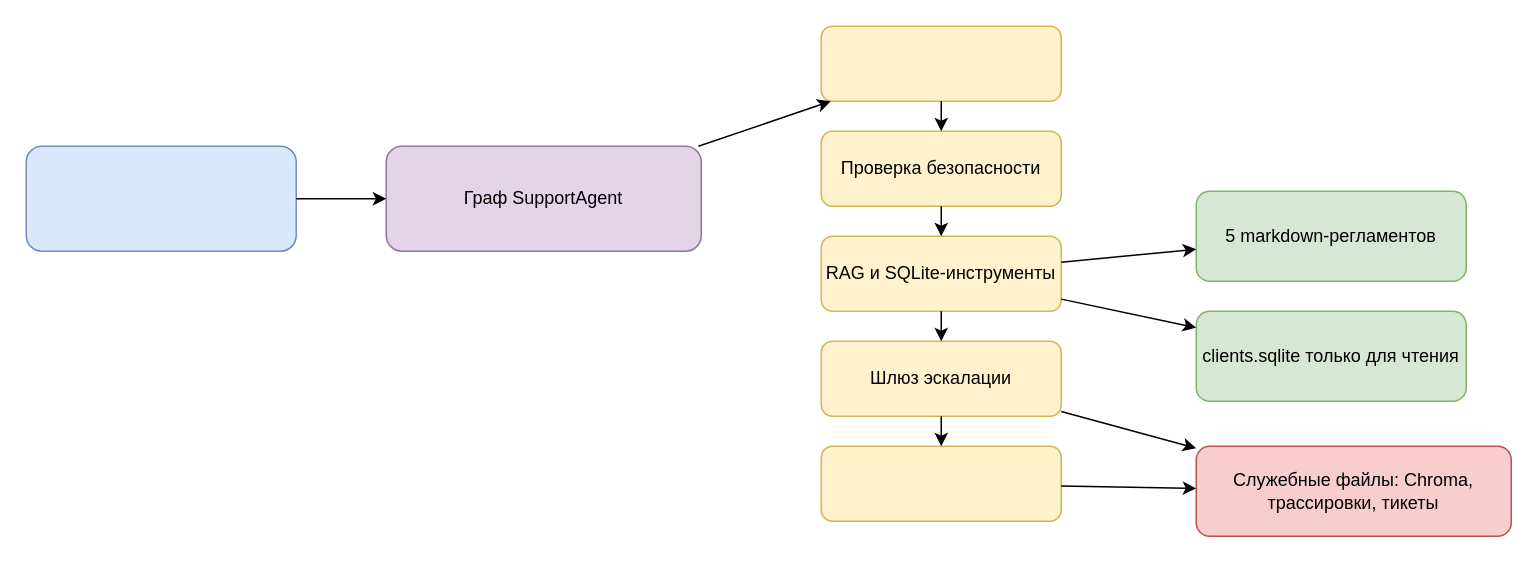
This 1538x563 diagram has some shape labels left out. Here are the shapes that lost their labels. From the top down, the centre of each, then its label:
At point (940, 63): "Классификация интента".
At point (160, 198): "Демо-интерфейс Streamlit".
At point (940, 483): "Финальная самопроверка".
